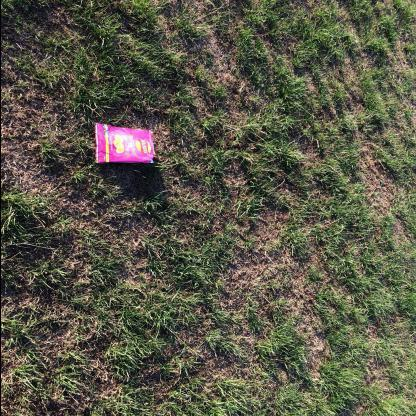plastik: (95, 123, 155, 165)
